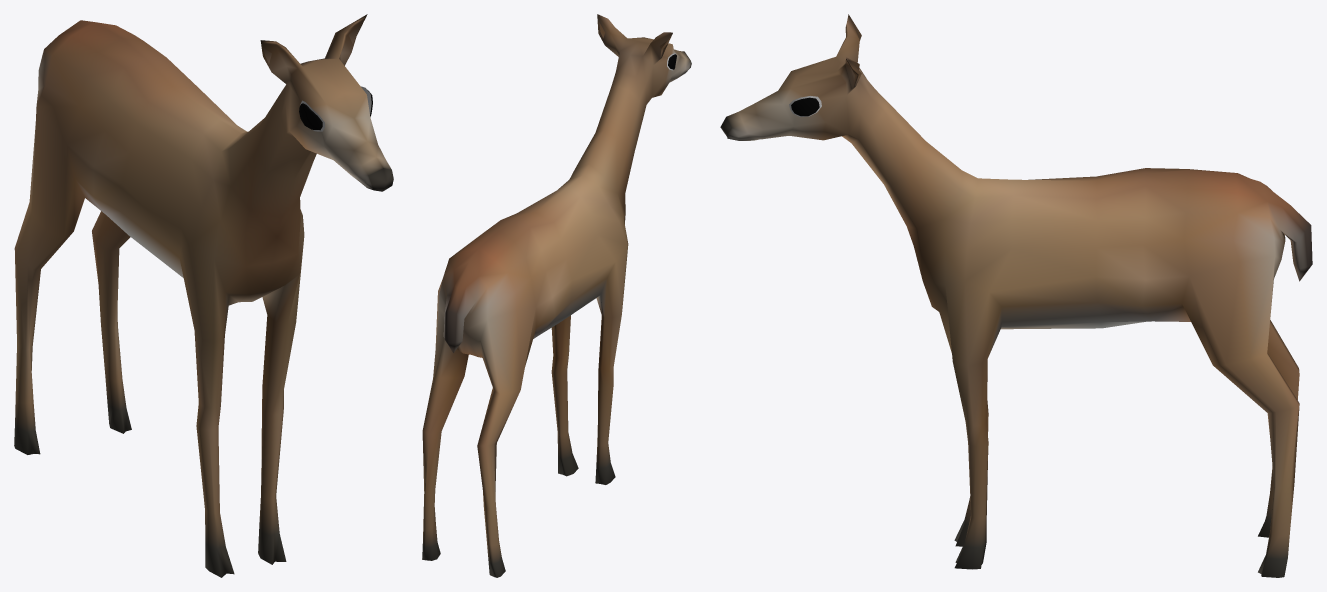
Rendered from animals-animals-deer_v2.fbx.
The picture shows the model from 3 angles, left to right: view 1: azimuth 30°, elevation 25°; view 2: azimuth 150°, elevation 25°; view 3: azimuth 270°, elevation 25°; orthographic projection. The views are drawn at different scales.
Parts seen in each view (by area): view 1: Deer_v2; view 2: Deer_v2; view 3: Deer_v2.
Part boxes in pixels (x1,y1,x2,y2): Deer_v2: (14,14,393,577); Deer_v2: (422,14,691,577); Deer_v2: (720,14,1312,577).
Size of the model in its own units: 0.3169 by 1.6 by 1.66.
